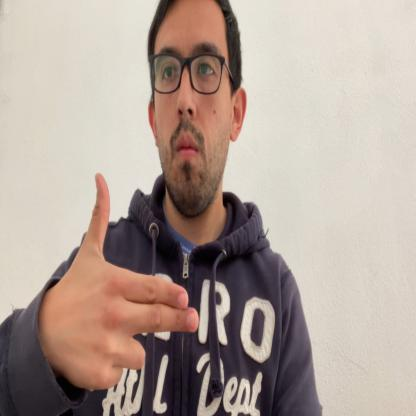H: (57, 172, 202, 392)
